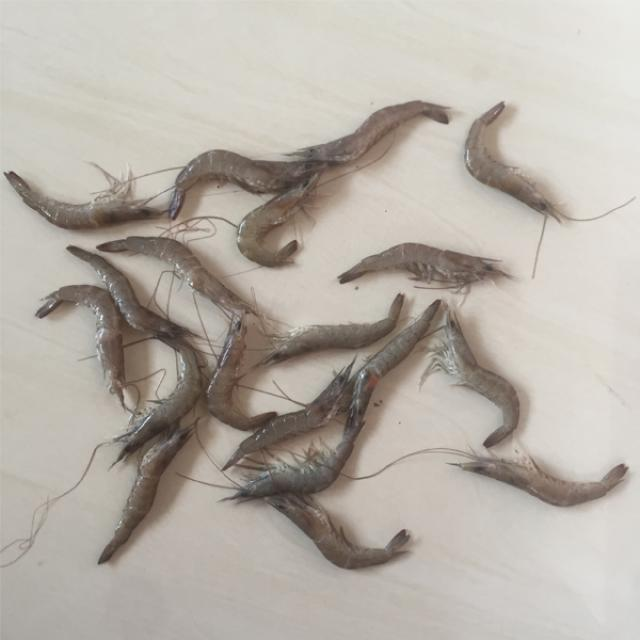shrimp: (420, 305, 521, 449), (225, 360, 355, 471), (218, 409, 364, 506), (98, 427, 194, 565), (351, 299, 443, 429), (99, 237, 255, 313), (466, 101, 561, 222), (66, 246, 190, 338), (169, 150, 325, 221), (115, 338, 203, 463), (35, 285, 125, 407), (268, 494, 411, 570), (257, 294, 405, 367), (290, 100, 450, 166), (3, 172, 162, 229), (453, 459, 629, 507), (206, 315, 277, 430), (339, 243, 512, 289), (239, 172, 321, 267)
